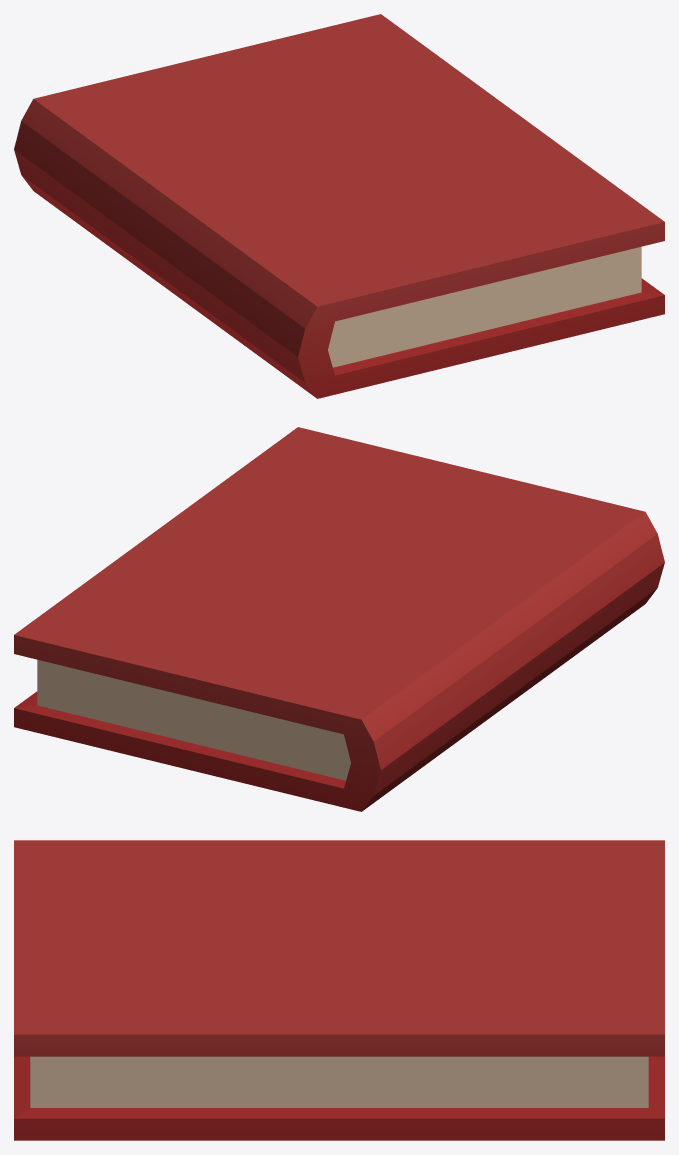
File: Book_02.fbx
3 renders of one model, top to bottom at view 1: azimuth 30°, elevation 25°; view 2: azimuth 150°, elevation 25°; view 3: azimuth 270°, elevation 25°, orthographic. The views are drawn at different scales.
Visible parts, largest first — view 1: Book_02; view 2: Book_02; view 3: Book_02.
Boxes of the visible parts, x1,y1,x2,y2 form: Book_02: (14, 14, 664, 398); Book_02: (14, 427, 664, 811); Book_02: (14, 840, 664, 1140).
Size of the model in its own units: 19.89 by 4.78 by 26.67.
